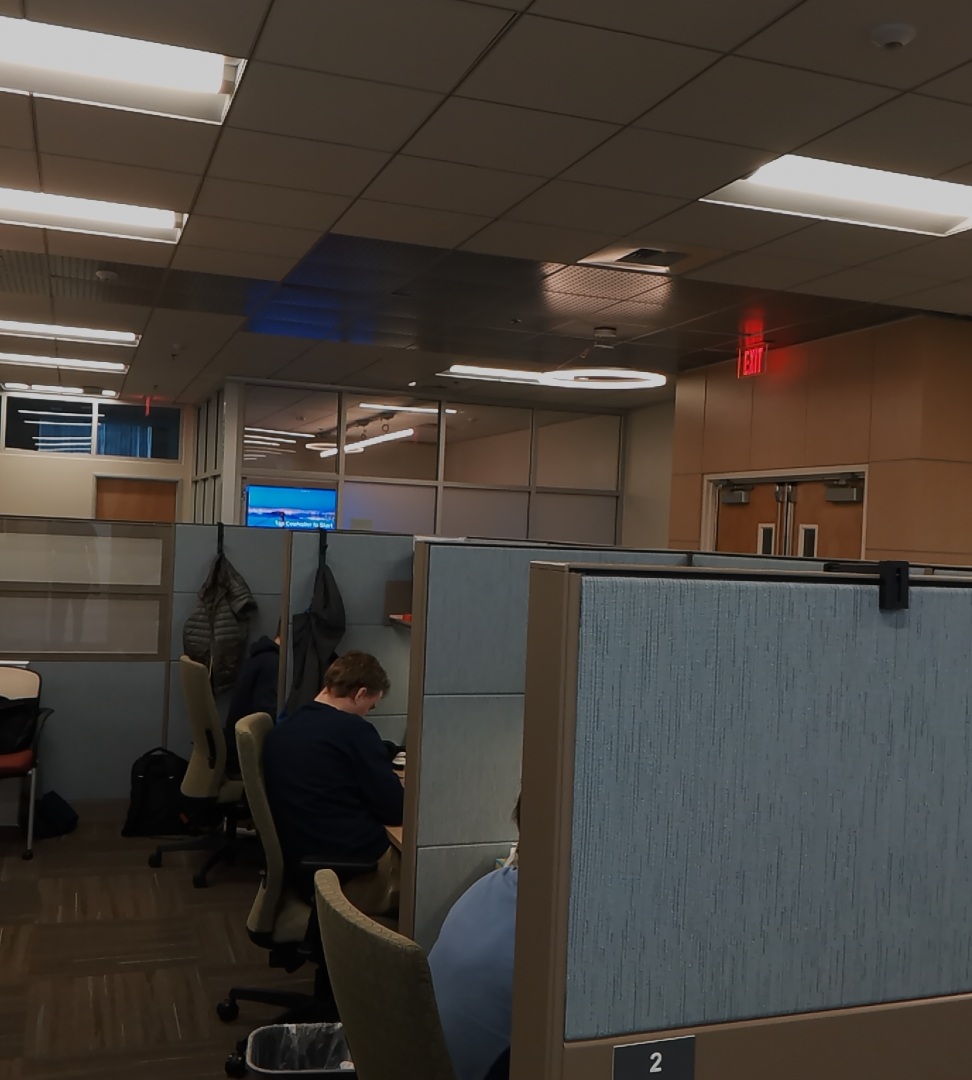emergency_exit: (735, 327, 770, 380)
